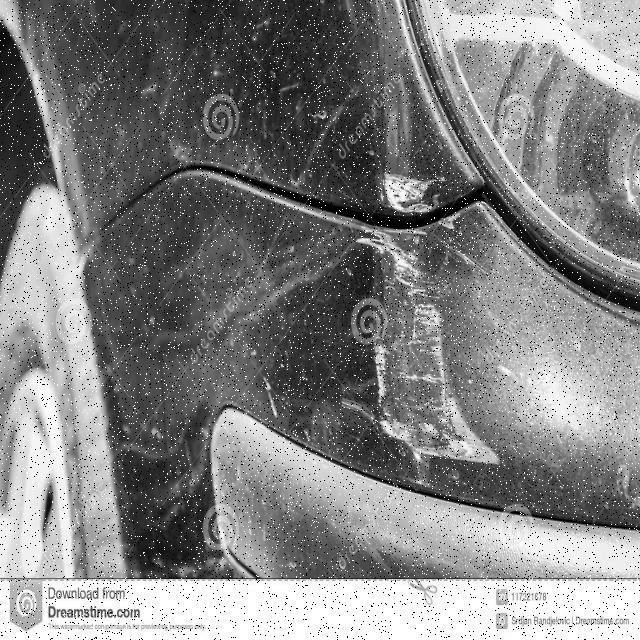front-bumper-dent: (65, 156, 640, 582)
